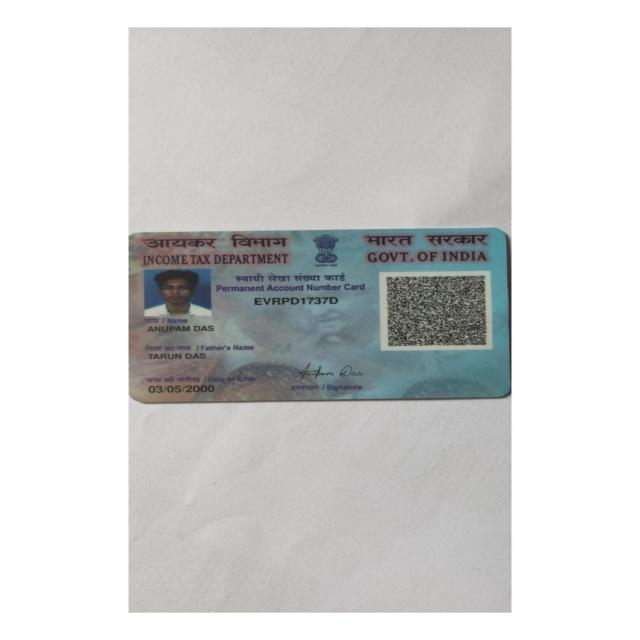pan_card: (129, 226, 503, 405)
